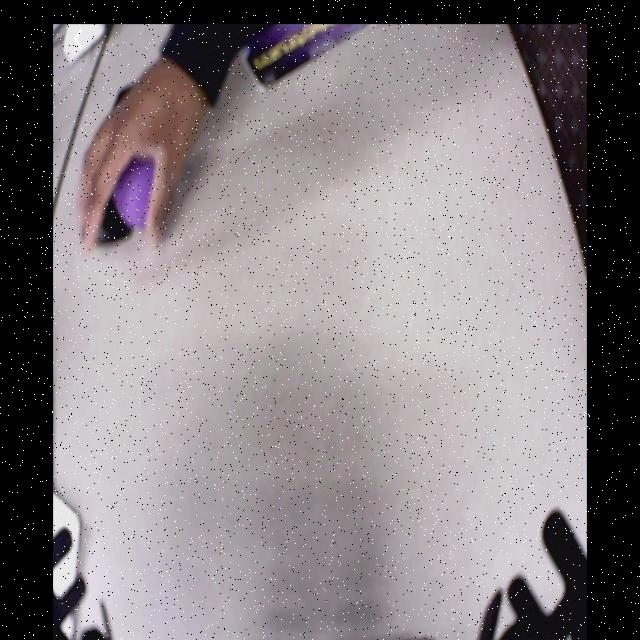ball: (114, 162, 168, 230)
